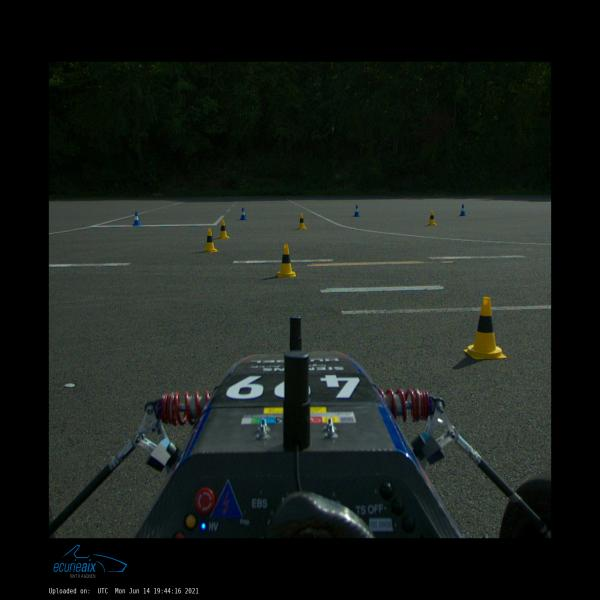blue_cone: (132, 212, 142, 225), (239, 208, 247, 220), (459, 204, 466, 216), (353, 205, 360, 217)
yellow_cone: (463, 297, 507, 359), (276, 244, 296, 277), (202, 228, 219, 253), (217, 220, 231, 238), (296, 213, 308, 229), (427, 210, 437, 226)
